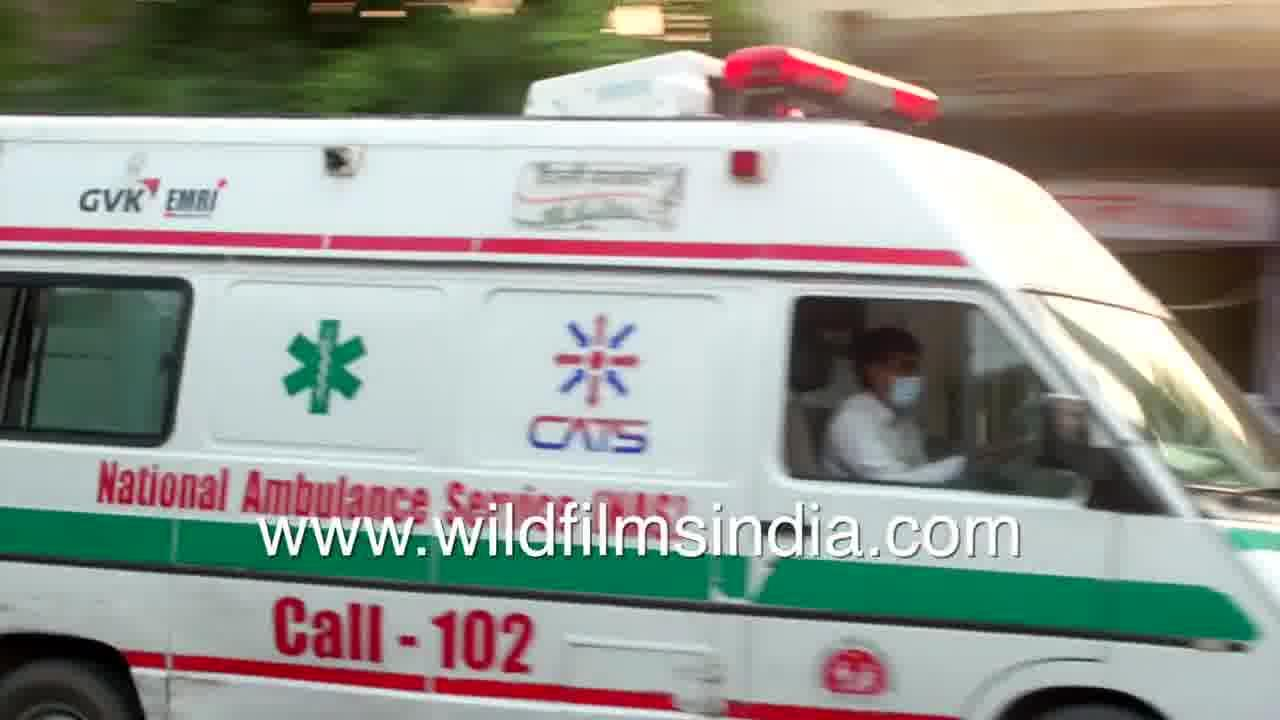AMBULANCE: (0, 56, 1253, 500)
